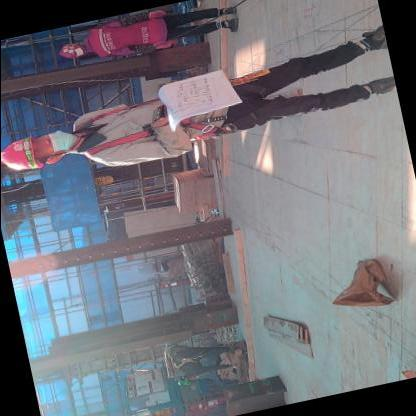Helmet: (0, 128, 45, 183)
safety-shoe: (362, 19, 387, 54), (218, 12, 248, 38)
